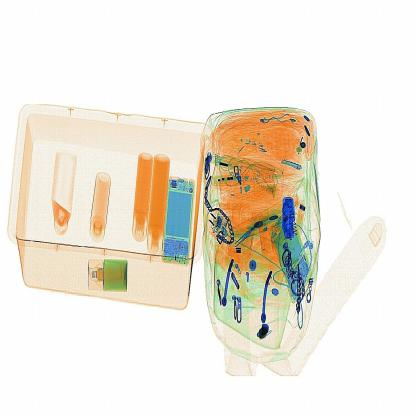scissors: (280, 188, 303, 246)
